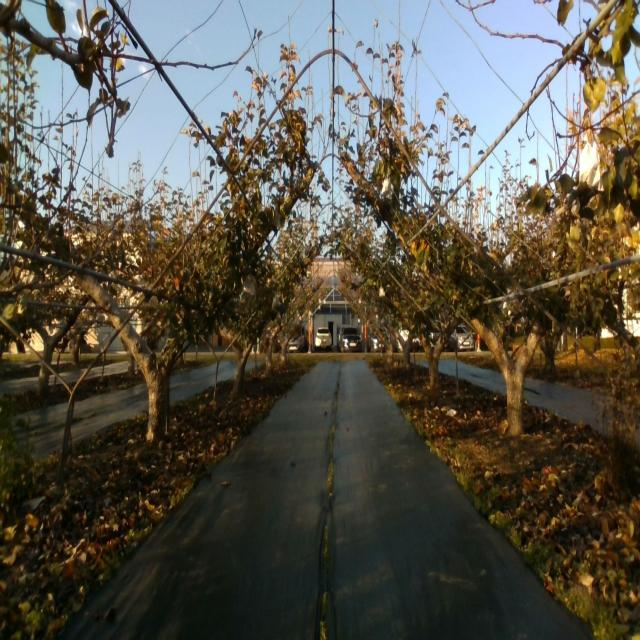pearbags: (579, 135, 603, 192), (380, 177, 392, 200)
